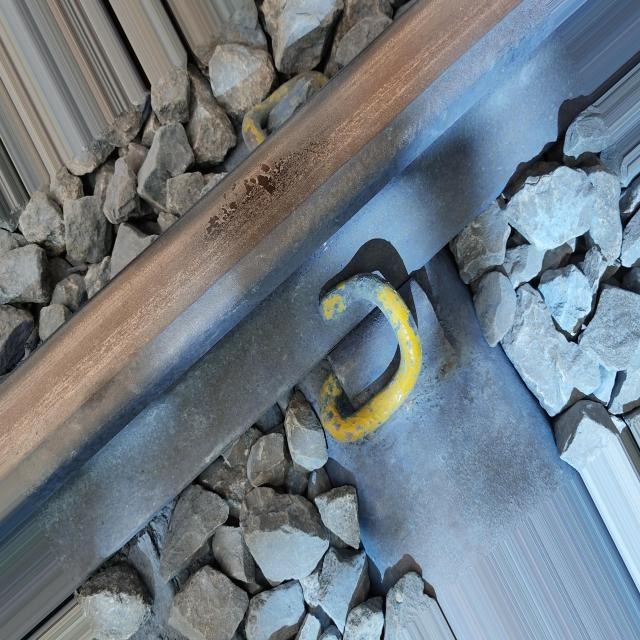Good Fasteners: (307, 264, 477, 466), (242, 71, 328, 151)
